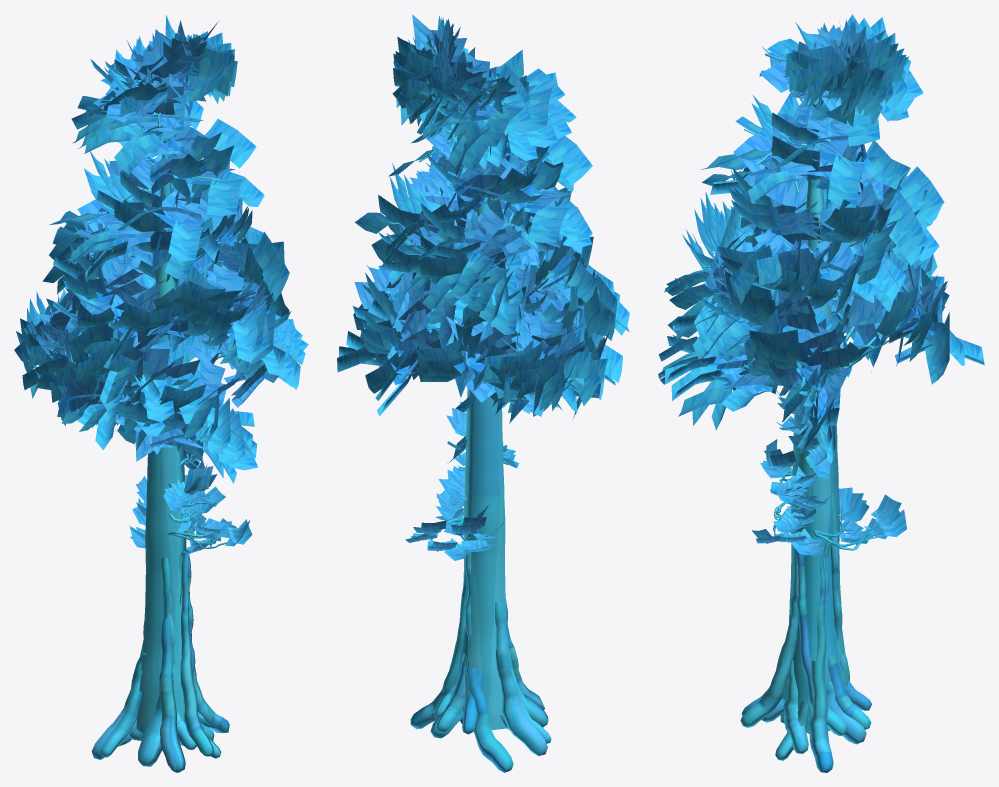
File: arvore de gelo.glb
3 views of the same model, side by side, from view 1: azimuth 30°, elevation 25°; view 2: azimuth 150°, elevation 25°; view 3: azimuth 270°, elevation 25° (orthographic). The views are drawn at different scales.
Parts seen in each view (by area): view 1: Bottom_T; view 2: Bottom_T; view 3: Bottom_T.
Part boxes in pixels (box(x1,y1,x2,y2)): Bottom_T: box(14, 15, 308, 772); Bottom_T: box(337, 14, 629, 772); Bottom_T: box(658, 14, 984, 772).
Size of the model in its own units: 18.31 by 47.09 by 18.74.
1 material, 1 textured.
